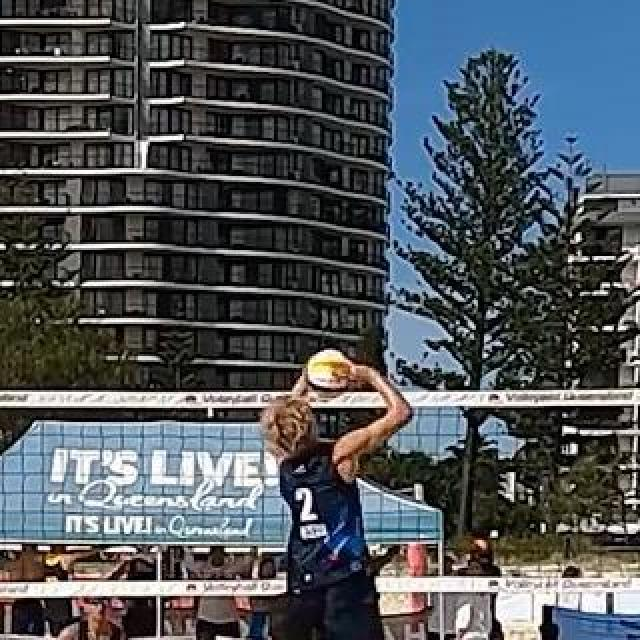volleyball: (305, 347, 353, 395)
